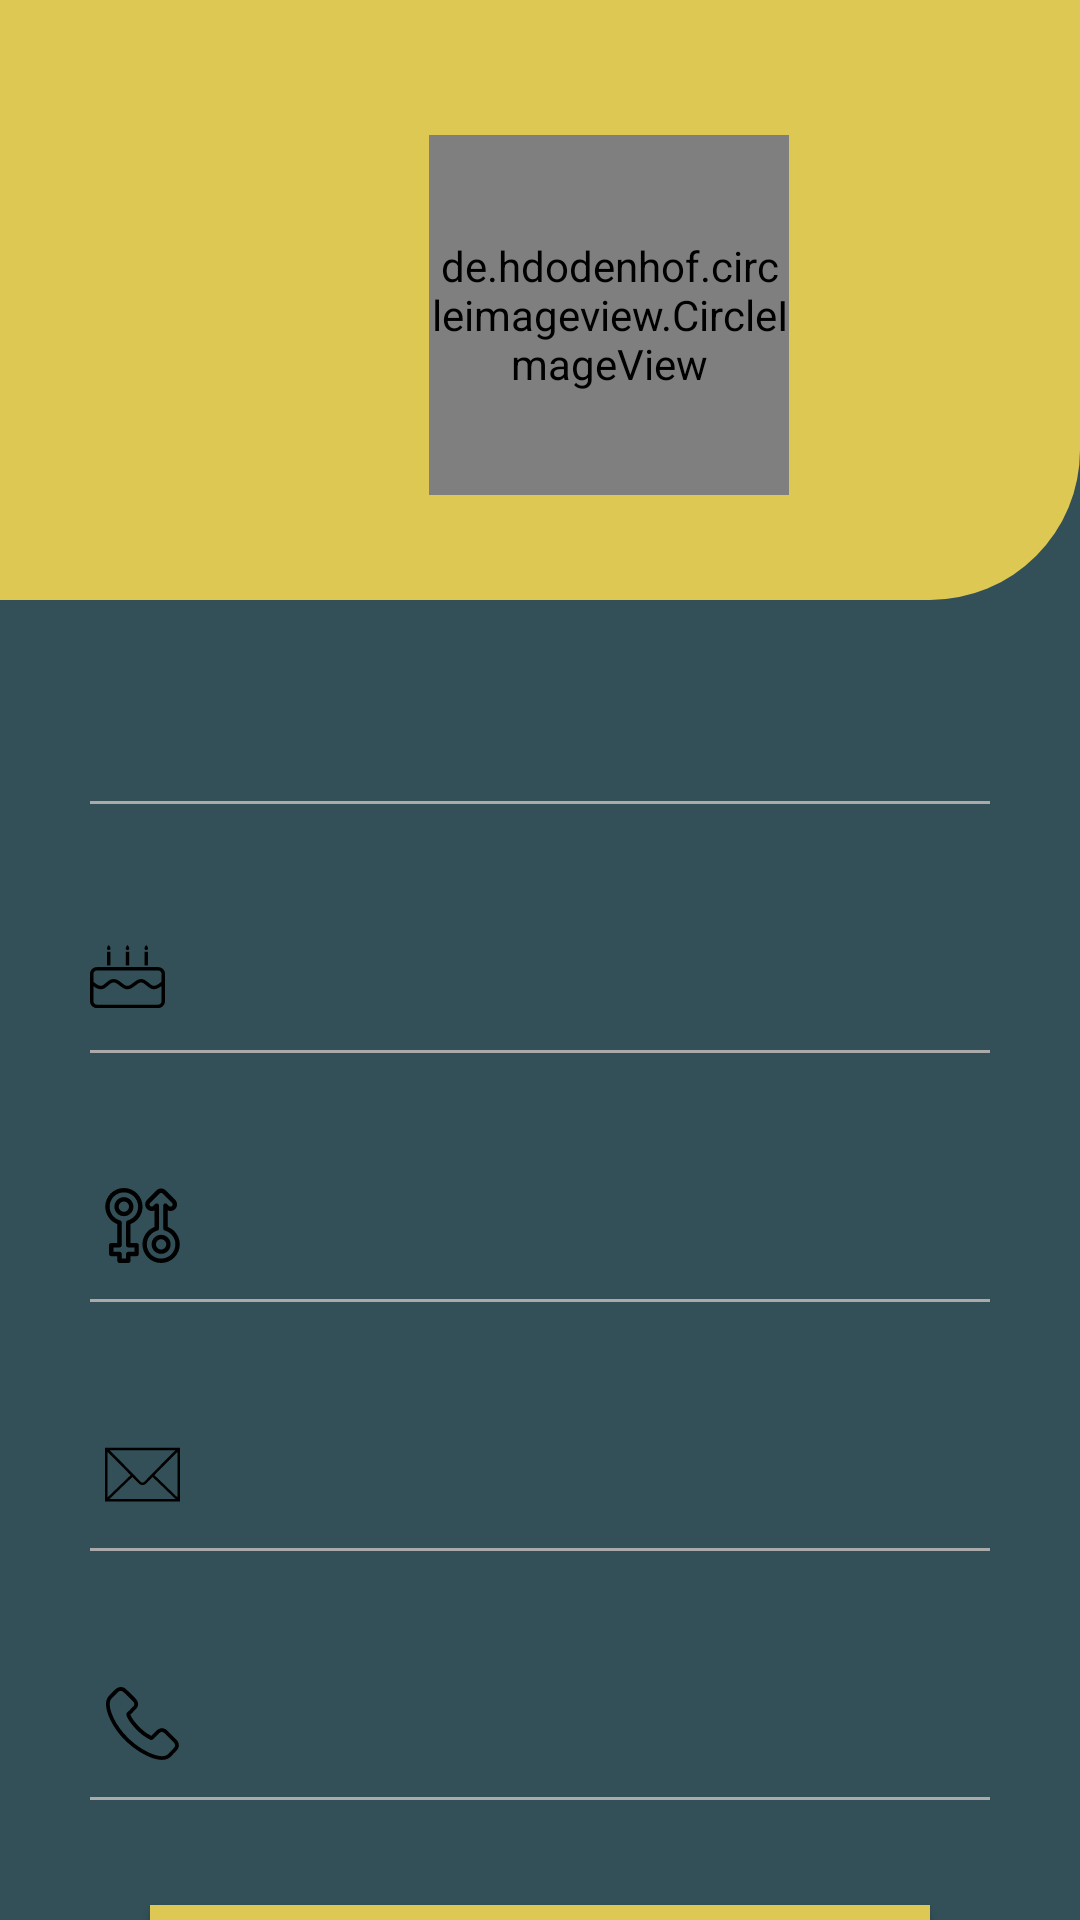

Icons on this 1080*1920 Android screen, each with the point to tap as (x,y):
birthday: (127,976)
gender: (142,1225)
mail: (142,1475)
phone: (142,1723)
